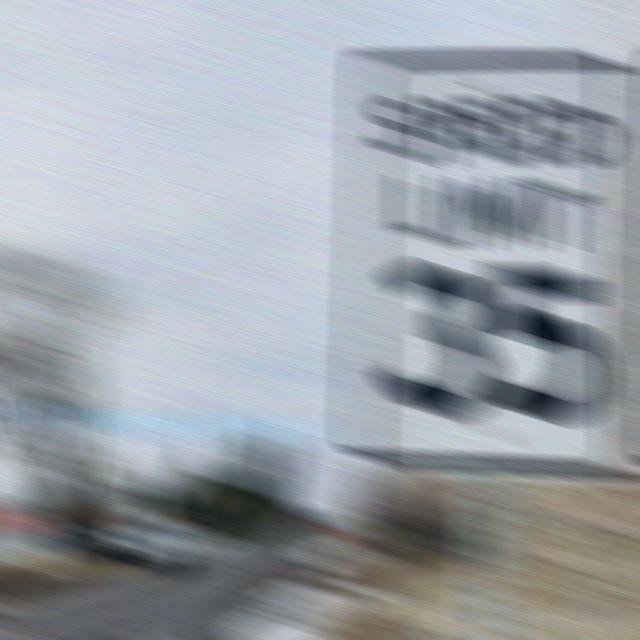speedLimit35: (372, 82, 613, 439)
